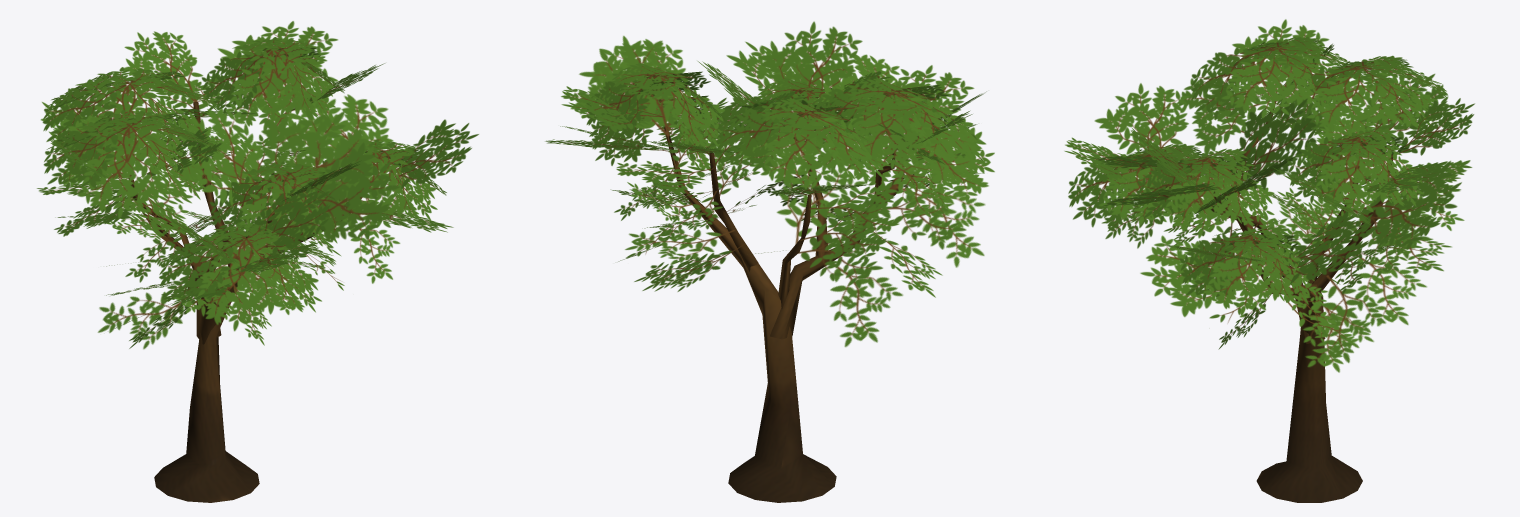
Rendered from tree1.glb.
3 views of the same model, side by side, from view 1: azimuth 30°, elevation 25°; view 2: azimuth 150°, elevation 25°; view 3: azimuth 270°, elevation 25° (orthographic). The views are drawn at different scales.
Parts seen in each view (by area): view 1: Cylinder001; view 2: Cylinder001; view 3: Cylinder001.
Part boxes in pixels (<box>): Cylinder001: <box>37,21,478,502</box>; Cylinder001: <box>545,21,994,502</box>; Cylinder001: <box>1064,19,1474,502</box>.
Size of the model in its own units: 6 by 5.23 by 5.51.
1 material, 1 textured.
